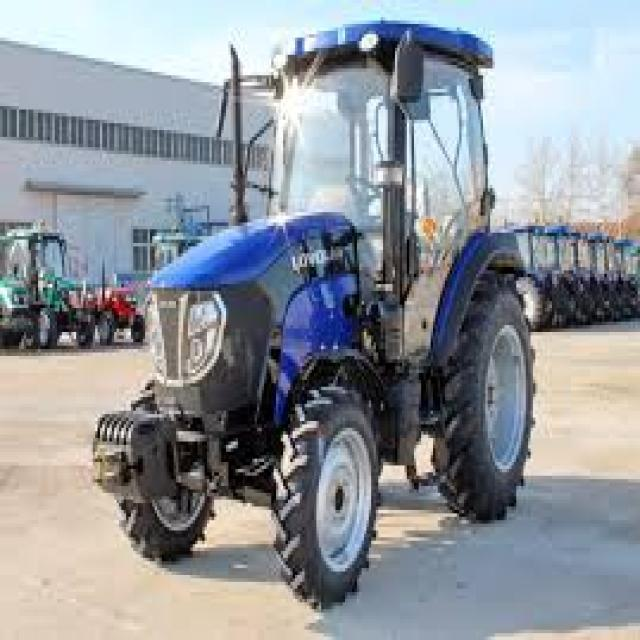Tratores - v5 YOLO V8L 2024-11-13: (98, 0, 525, 617), (0, 220, 93, 368), (526, 216, 574, 356), (77, 266, 145, 358), (507, 218, 546, 346), (0, 248, 36, 349)
